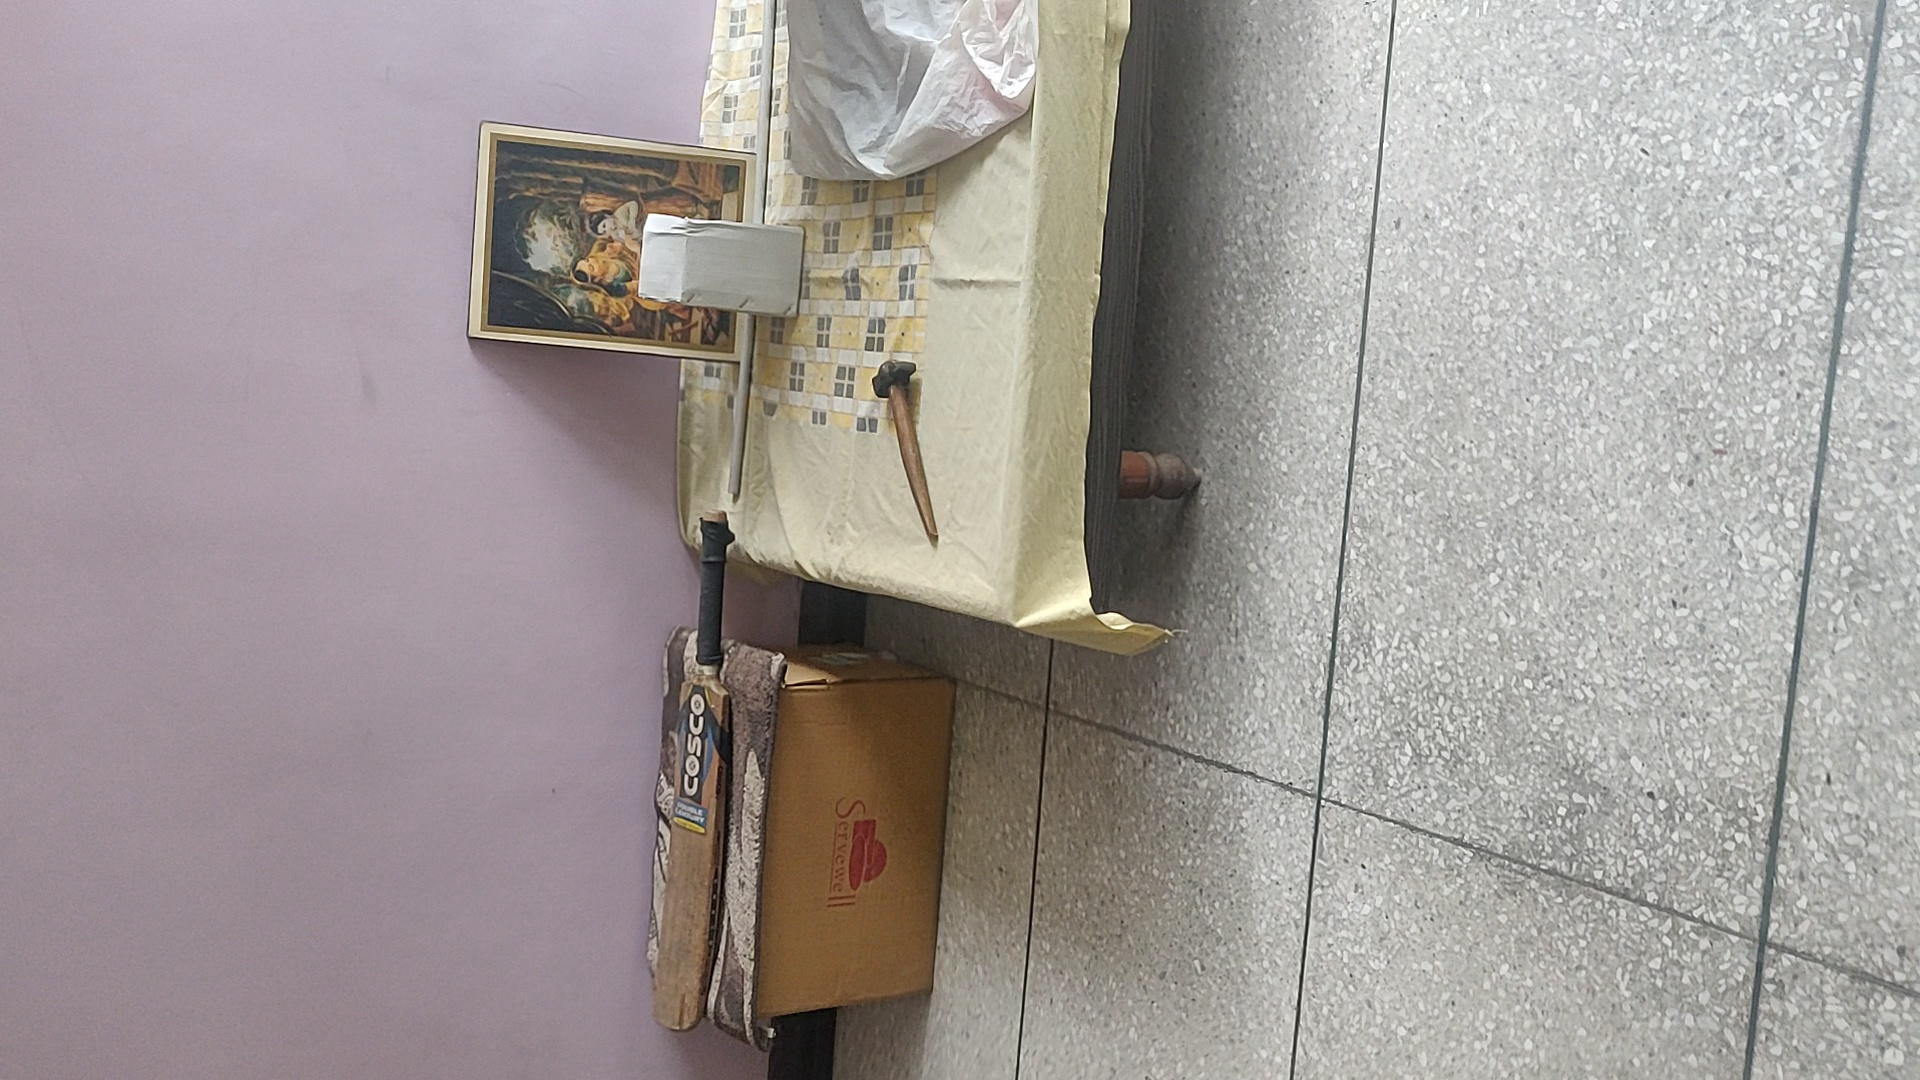hammer: (868, 357, 942, 545)
